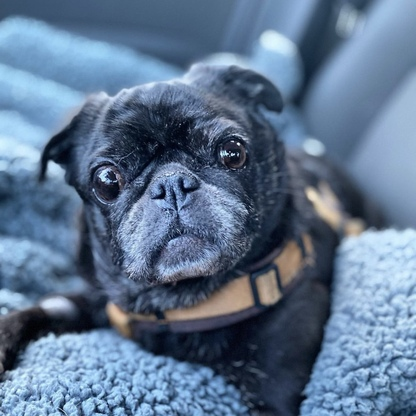Pug: (1, 55, 396, 416)
